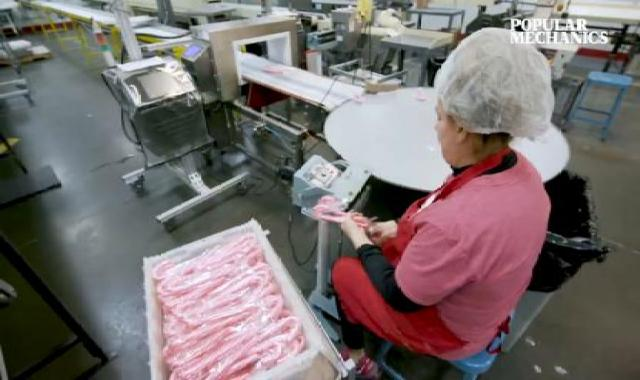hairnet: (433, 21, 560, 143)
